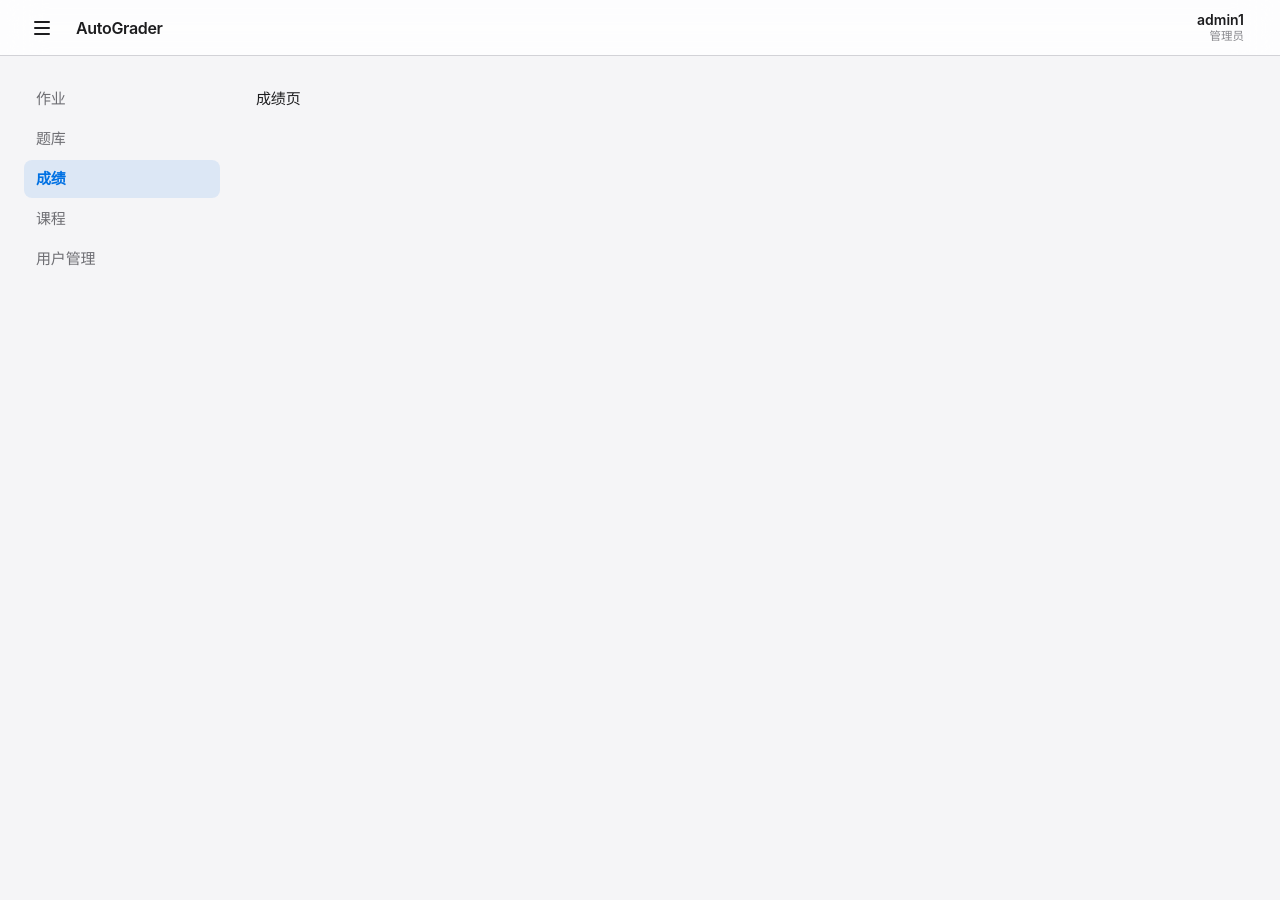
角色导航与账户菜单 › 管理员在小屏抽屉里也能进入用户管理
The width and height of the screenshot is (1280, 900).
Click the button with test id "nav-drawer-open" at (42, 28), box [24,10,60,46]
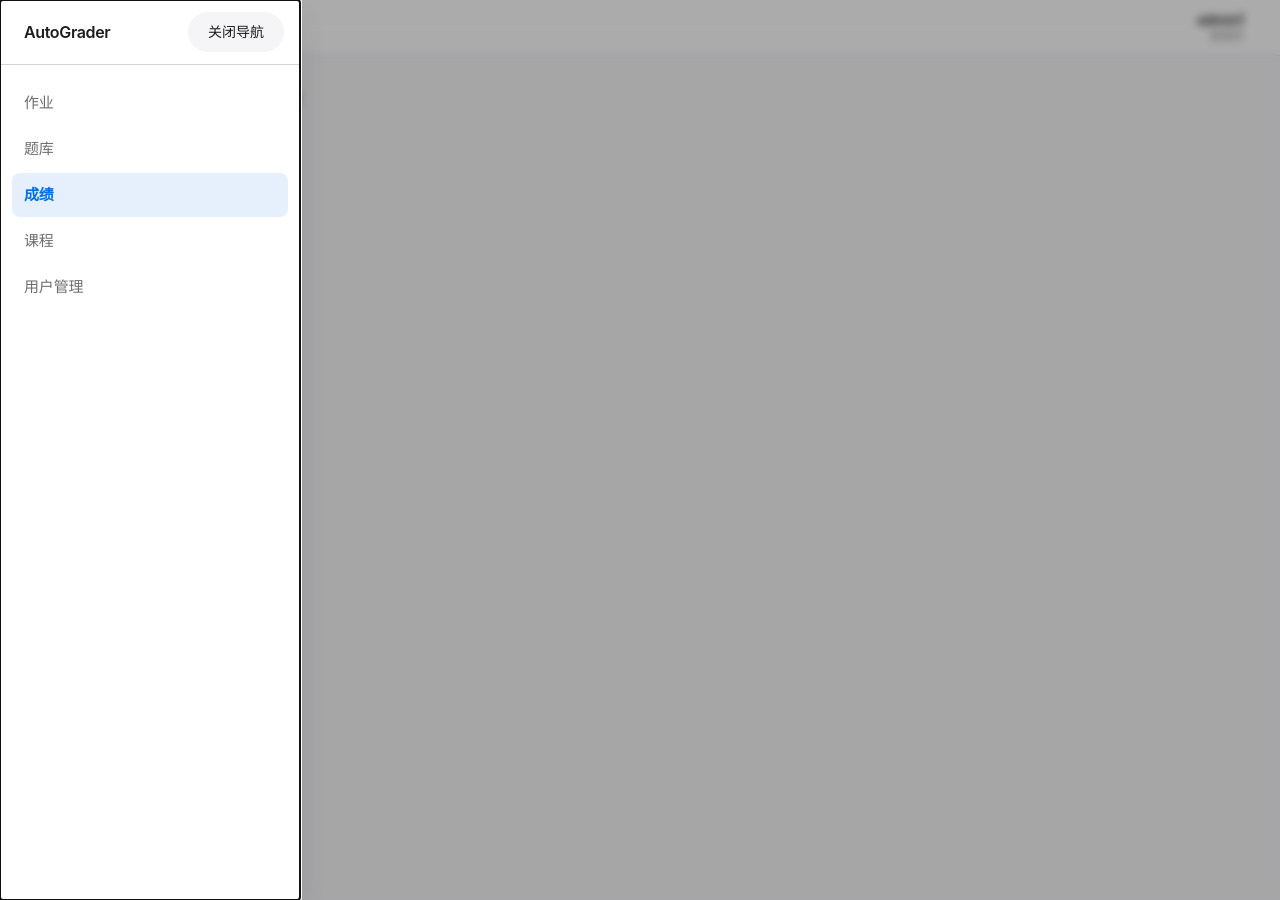
Now the link "用户管理" is shown
Click the link with test id "drawer-nav-admin-users" at (54, 286), box [24,277,83,296]
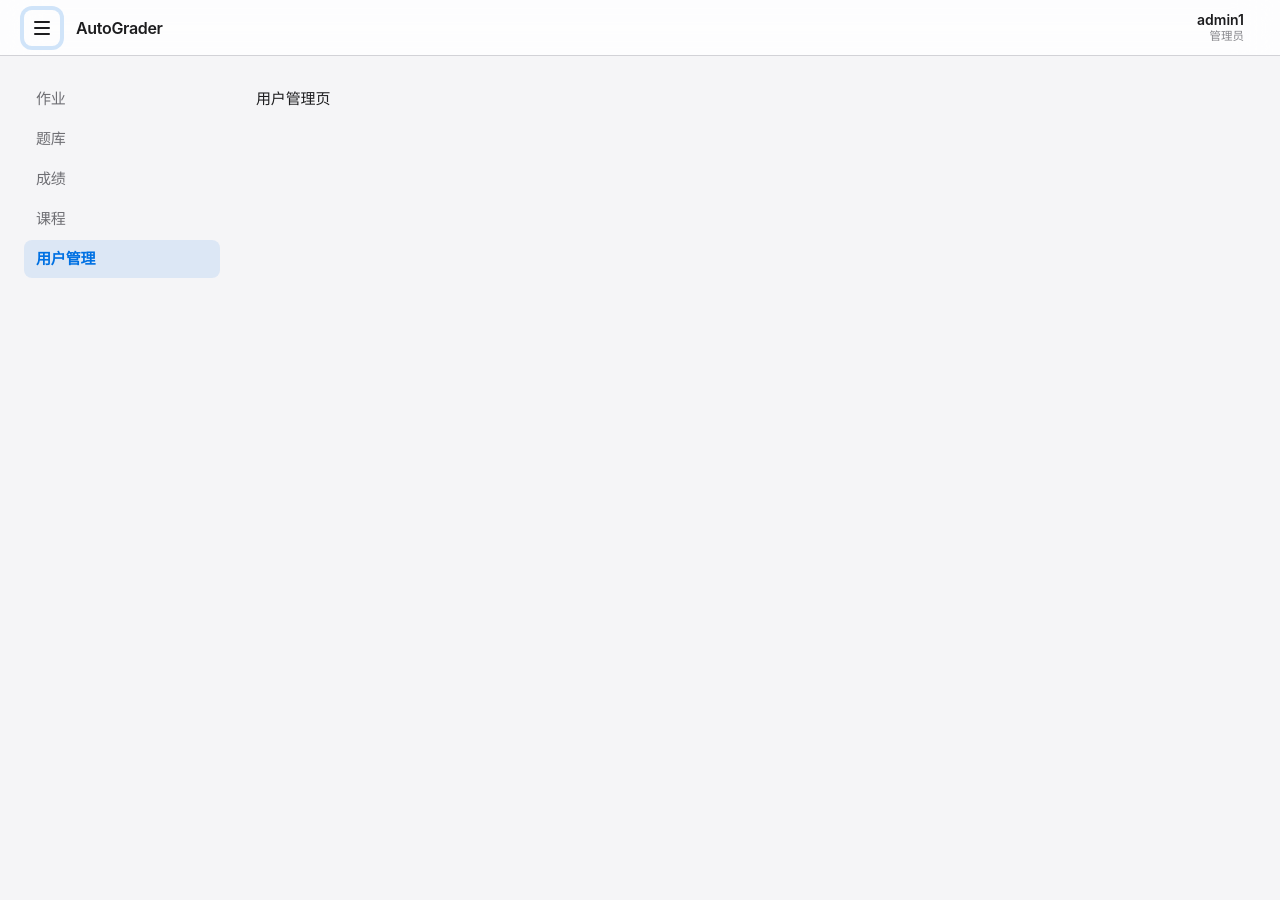
Now the text "用户管理页" is shown, box [256,89,330,108]
Now the dialog with test id "nav-drawer" is gone
